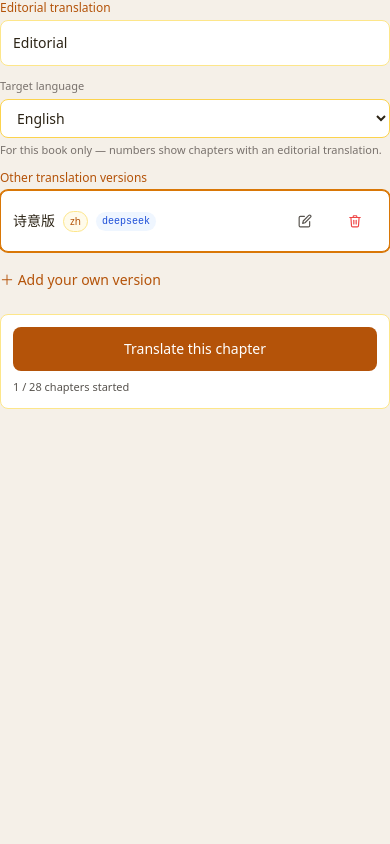
an incomplete book explains what is left instead of publishing
Click the button named "Edit version 诗意版" at coordinates (305, 221), box [283, 199, 327, 243]
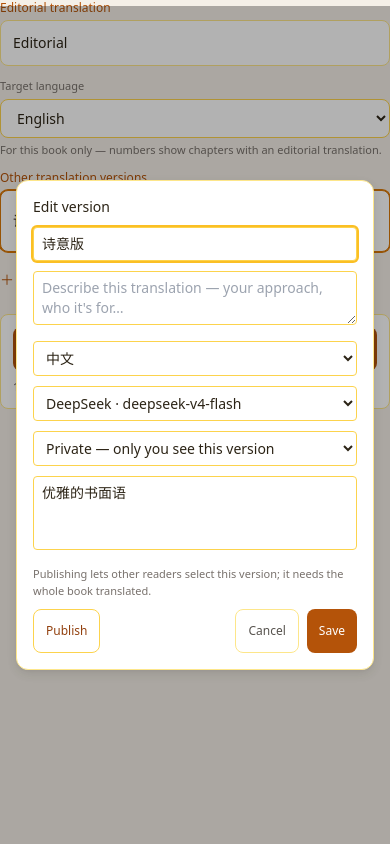
Click the button "Publish" at coordinates (67, 631), box [33, 609, 100, 653]
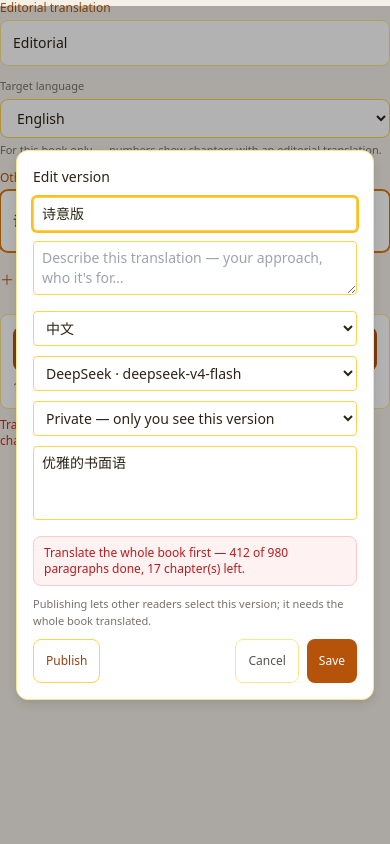
Check: the dialog named "Edit translation version" is shown
Check: the message with test id "edit-dialog-error" shows "412 of 980 paragraphs done, 17 chapter", box [44, 544, 288, 577]
